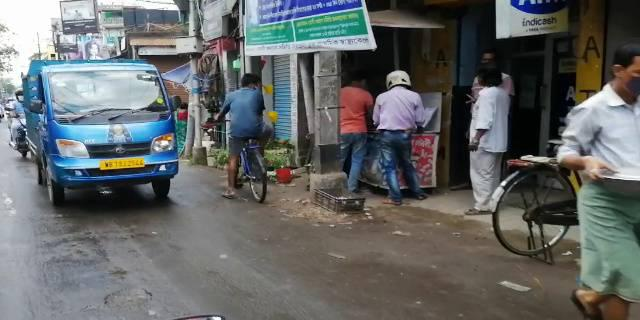Cycle: (218, 75, 277, 206)
Minitruck: (22, 51, 189, 201)
